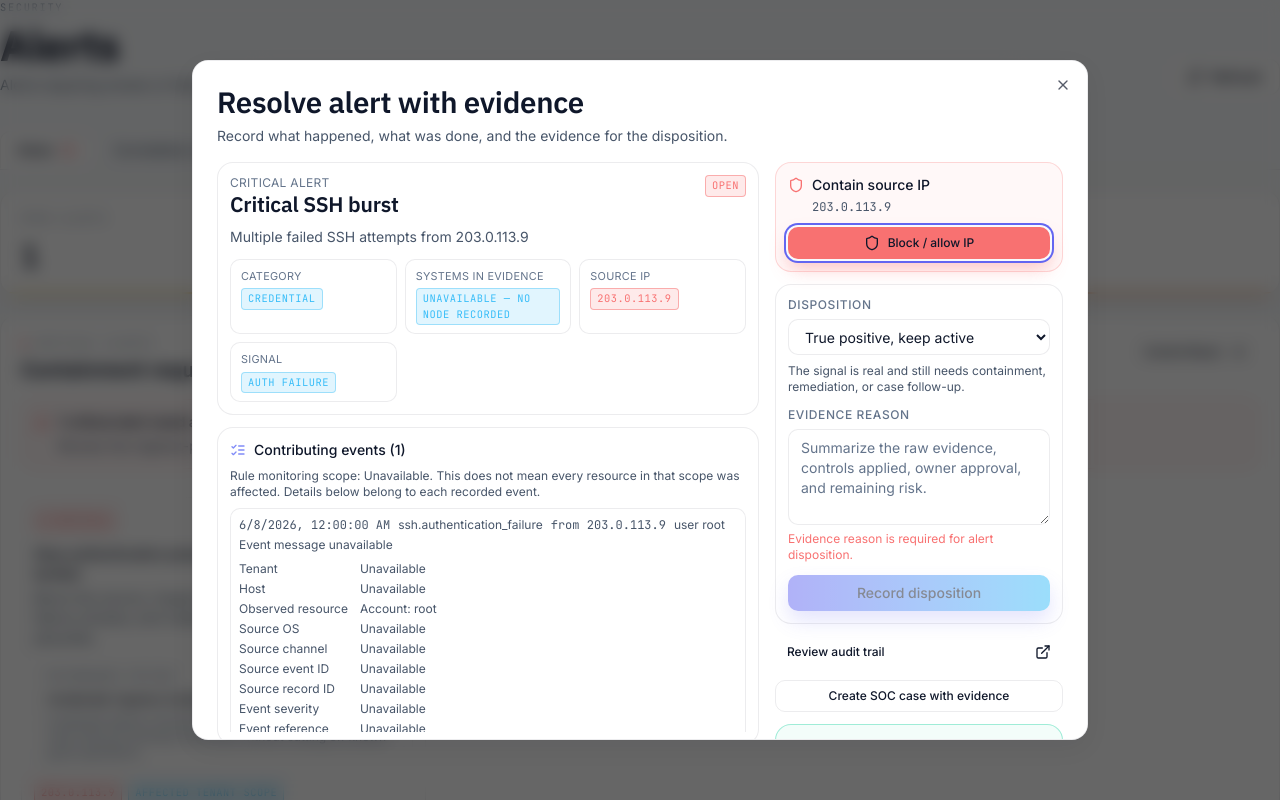
Test case: Alerts page failure states › lets an existing SOC case provide evidence for a real alert after reopening
Type "Investigation continues in the linked SOC case." into the text box labelled "Evidence reason" at (919, 477), box [788, 429, 1050, 525]
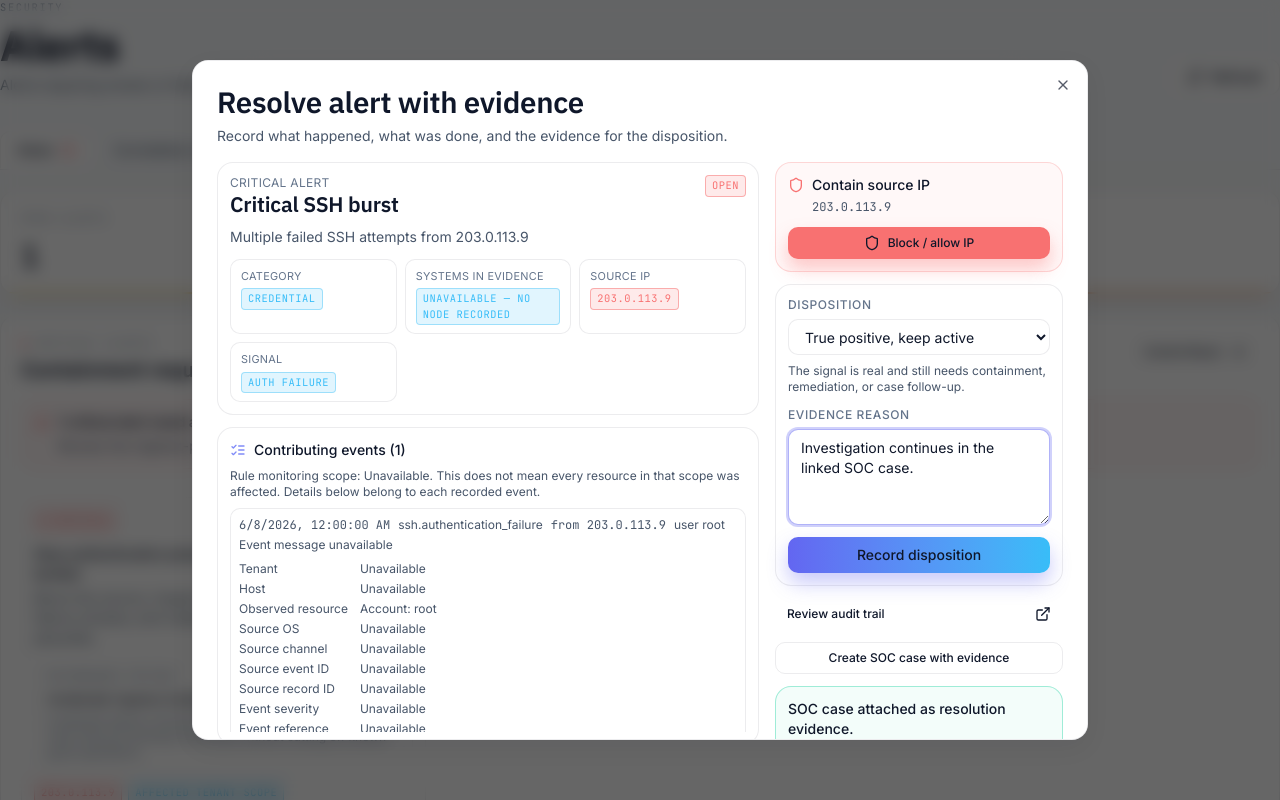
Now the button "Record disposition" is enabled, box [788, 537, 1050, 573]
